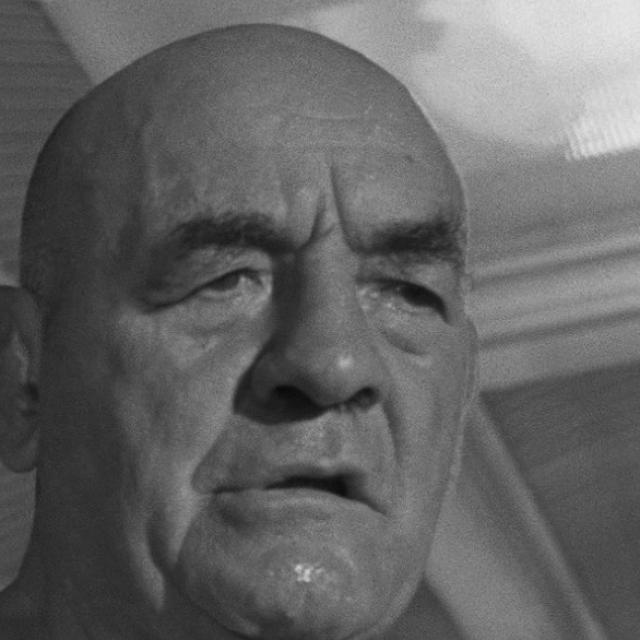Depress: (44, 125, 465, 639)
